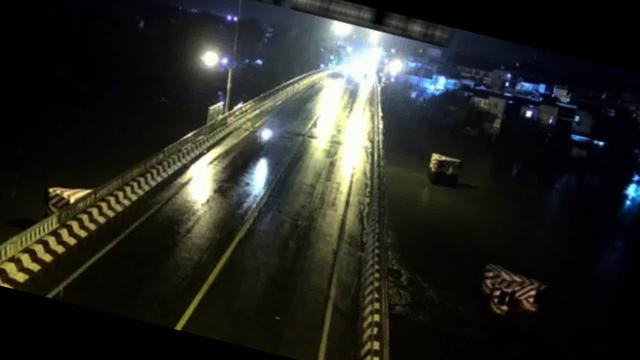Bike: (256, 128, 272, 147)
